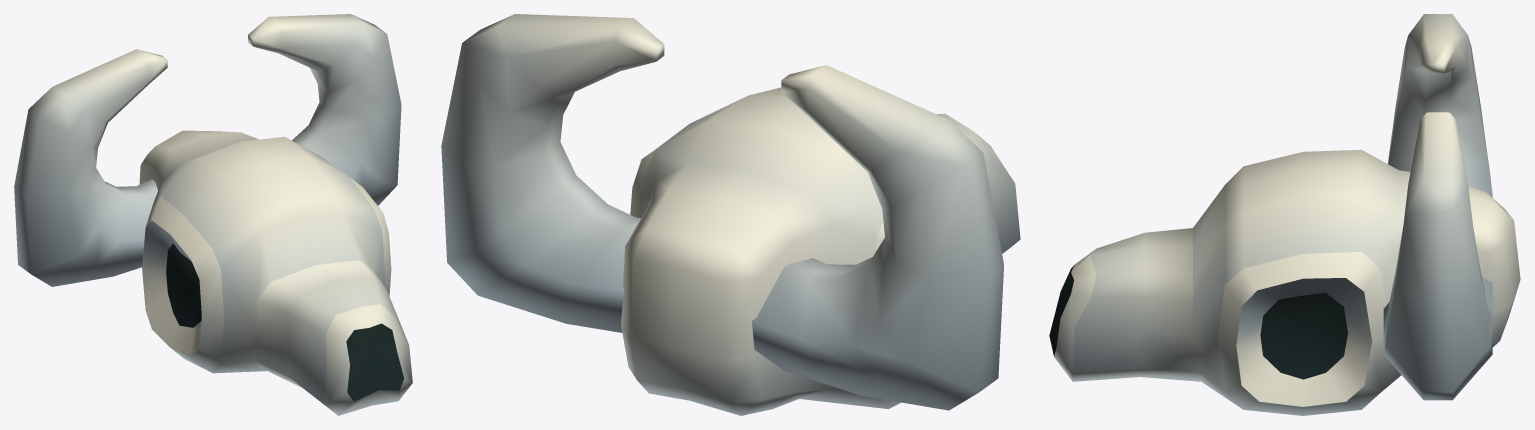
Rendered from cow_skull.fbx.
3 renders of one model, left to right at view 1: azimuth 30°, elevation 25°; view 2: azimuth 150°, elevation 25°; view 3: azimuth 270°, elevation 25°, orthographic. The views are drawn at different scales.
Visible parts, largest first — view 1: cow_skull; view 2: cow_skull; view 3: cow_skull.
Part boxes in pixels (x1,y1,x2,y2): cow_skull: [14, 14, 412, 415]; cow_skull: [441, 14, 1020, 415]; cow_skull: [1049, 14, 1520, 415].
Size of the model in its own units: 103 by 67.75 by 98.45.
